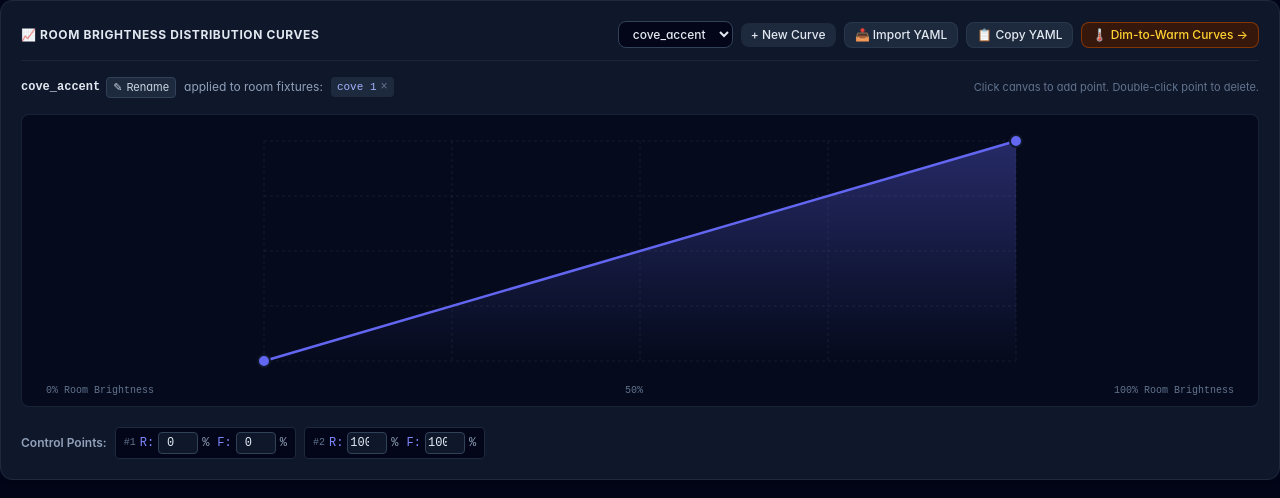
Test case: CurveEditor.vue › canceling rename reverts view without modifying curve
Click the button "✎ Rename" at point(141, 87), box [106, 77, 176, 98]
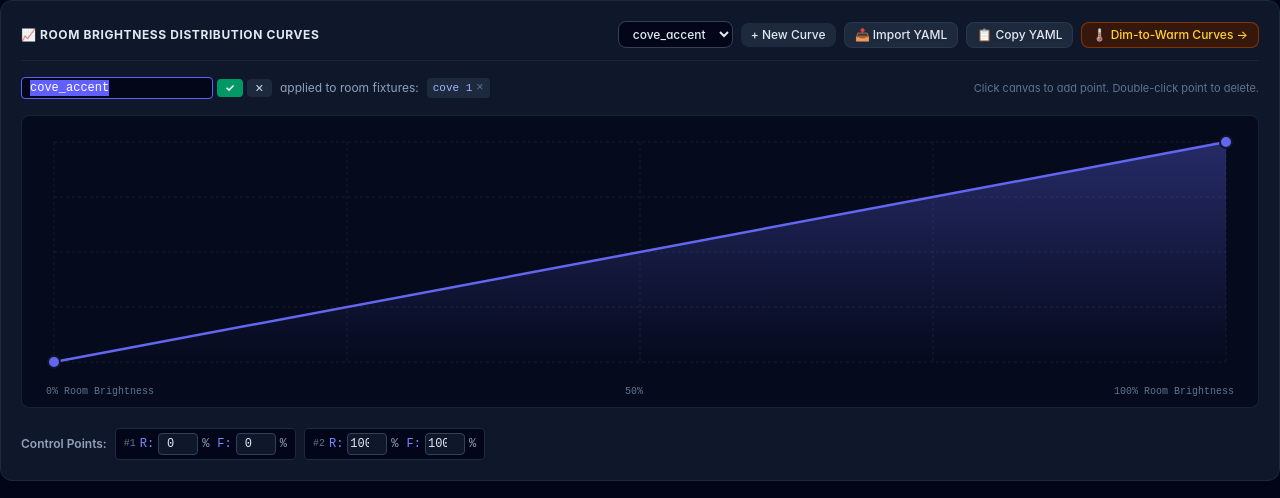
Replace the text in the field with placeholder "Curve name" with "different_name" at point(117, 88), box [21, 77, 213, 99]
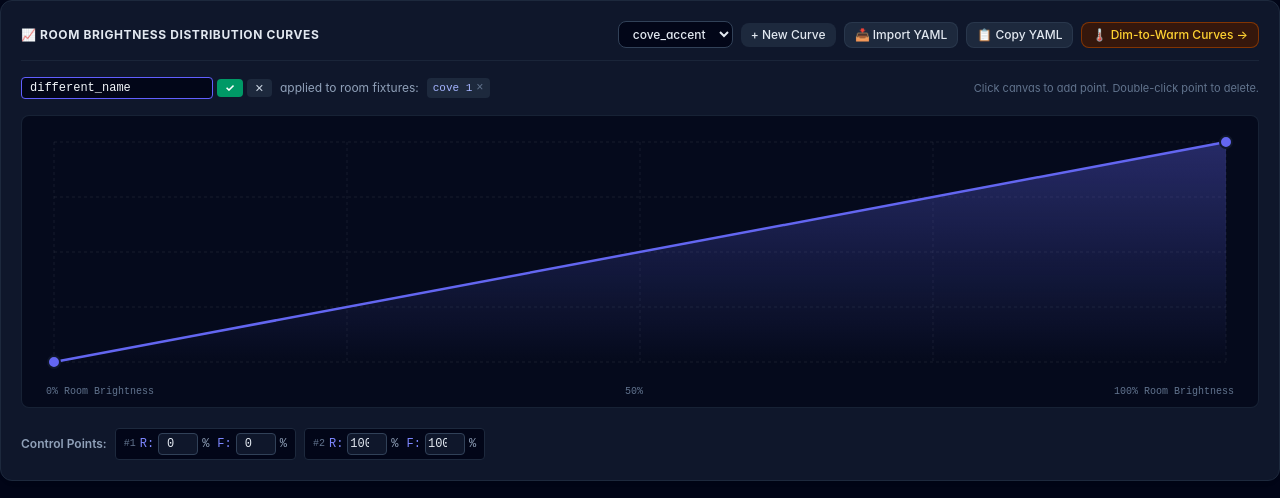
Click the button titled "Cancel renaming" at point(259, 88), box [247, 79, 272, 97]
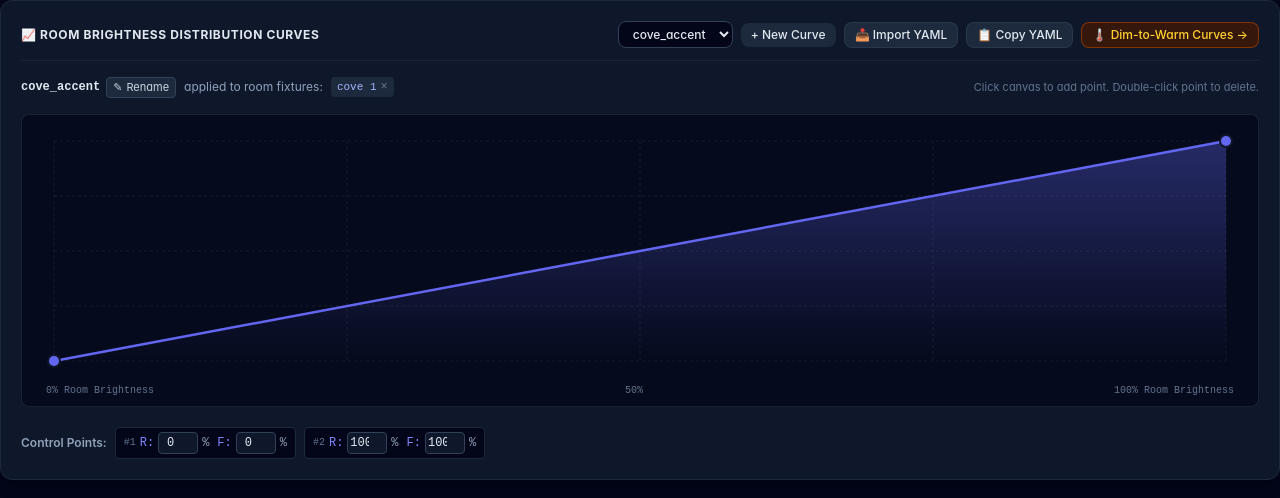
Result: the text "cove_accent" is shown at [21, 79, 100, 95]
